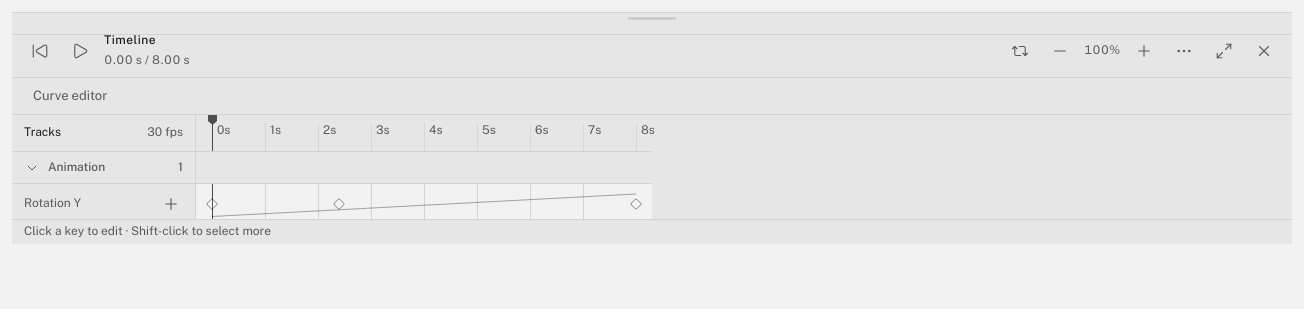
Test: timeline interaction transactions › finishes a drag outside the key after selecting it changes the layout
Press the mouse on the button named "Rotation Y keyframe at 2.40 s, value 108" at (339, 204), box [323,188,355,220]
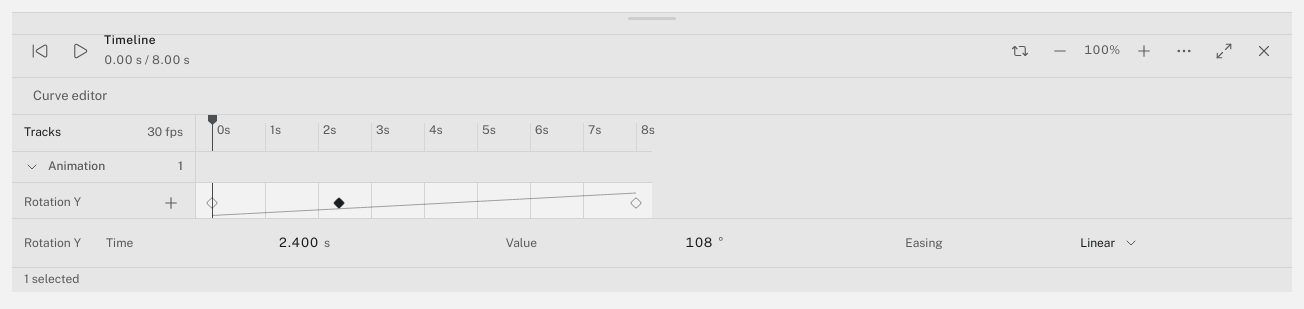
Expected: the field labelled "Time" is shown, [271,235,319,252]
